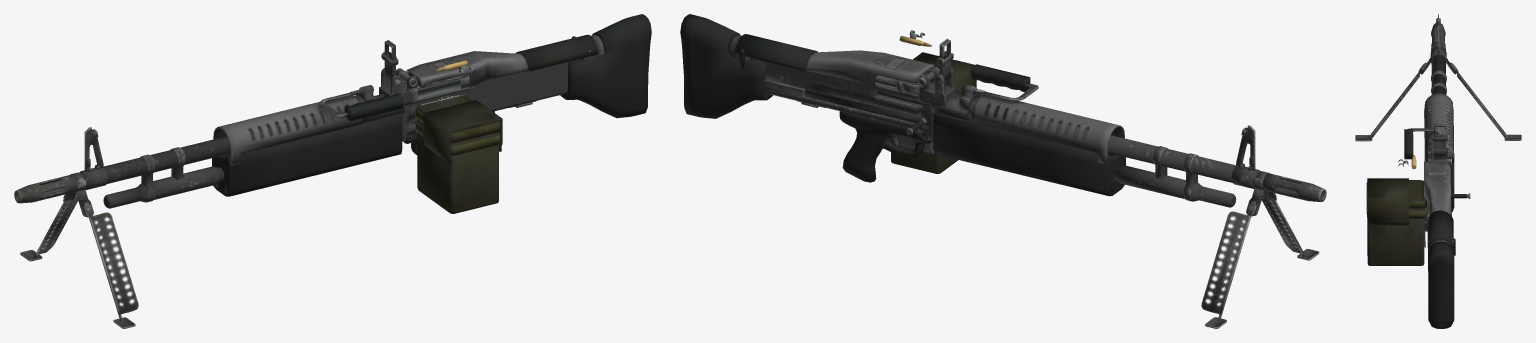
The model's file is gun-m60.glb.
3 views of the same model, side by side, from view 1: azimuth 30°, elevation 25°; view 2: azimuth 150°, elevation 25°; view 3: azimuth 270°, elevation 25° (orthographic). The views are drawn at different scales.
Parts seen in each view (by area): view 1: Object_2; view 2: Object_2; view 3: Object_2.
Part boxes in pixels (box(x1,y1,x2,y2)): Object_2: box(14, 14, 651, 328); Object_2: box(680, 14, 1326, 328); Object_2: box(1355, 14, 1521, 328).
Bounding box in the file's own units: 146 × 37.57 × 41.26.
Materials: 1 (1 with a texture image).
